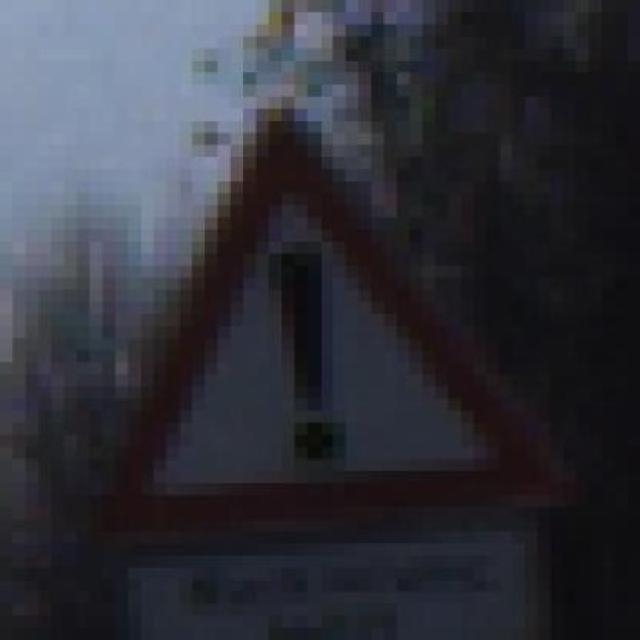Attention Please-: (48, 73, 561, 533)
